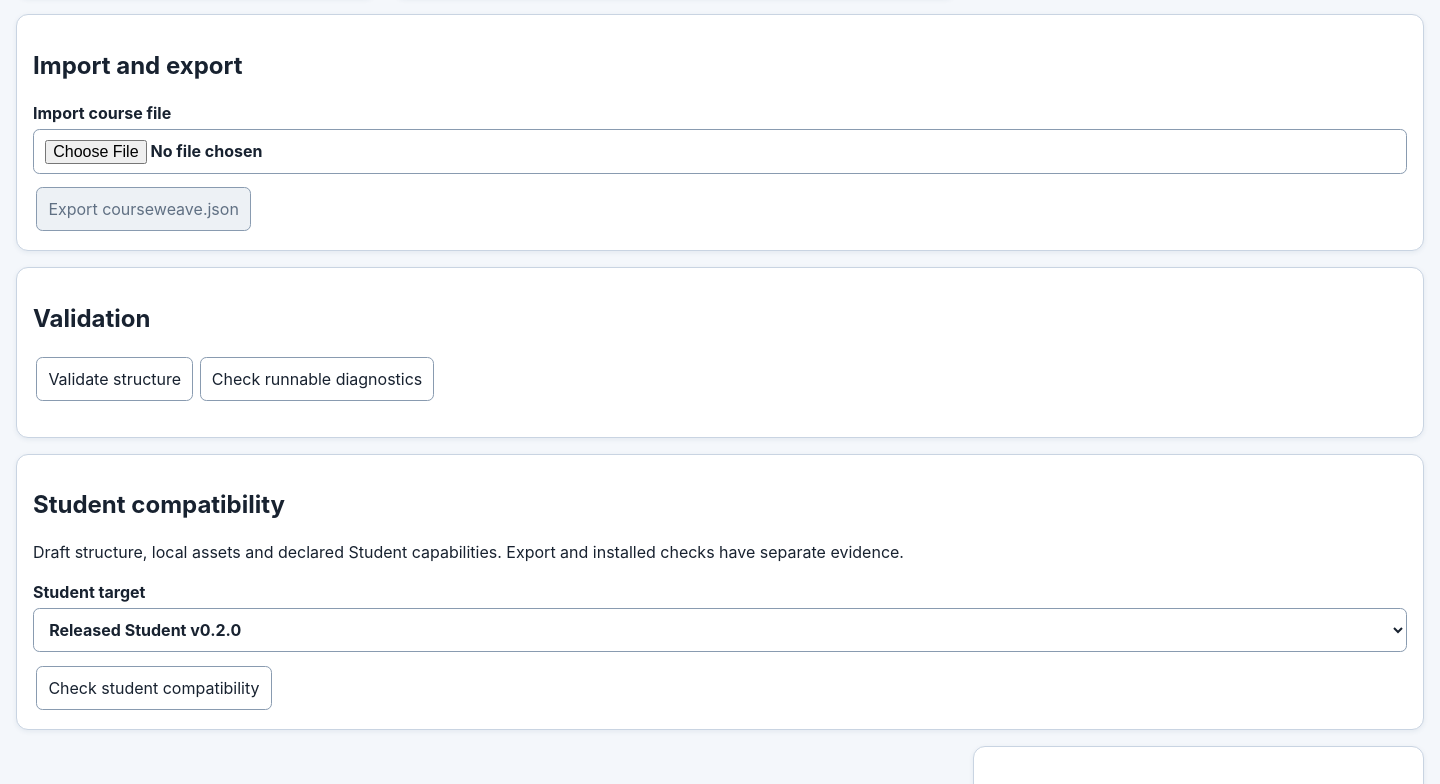
Test case: Author validation presentation › reveals and focuses the actual non-selected second-module Path field with its deterministic pointer association
(page scrolled)
Click the button "Validate structure": (115, 379) top-left (36, 357), bottom-right (193, 401)
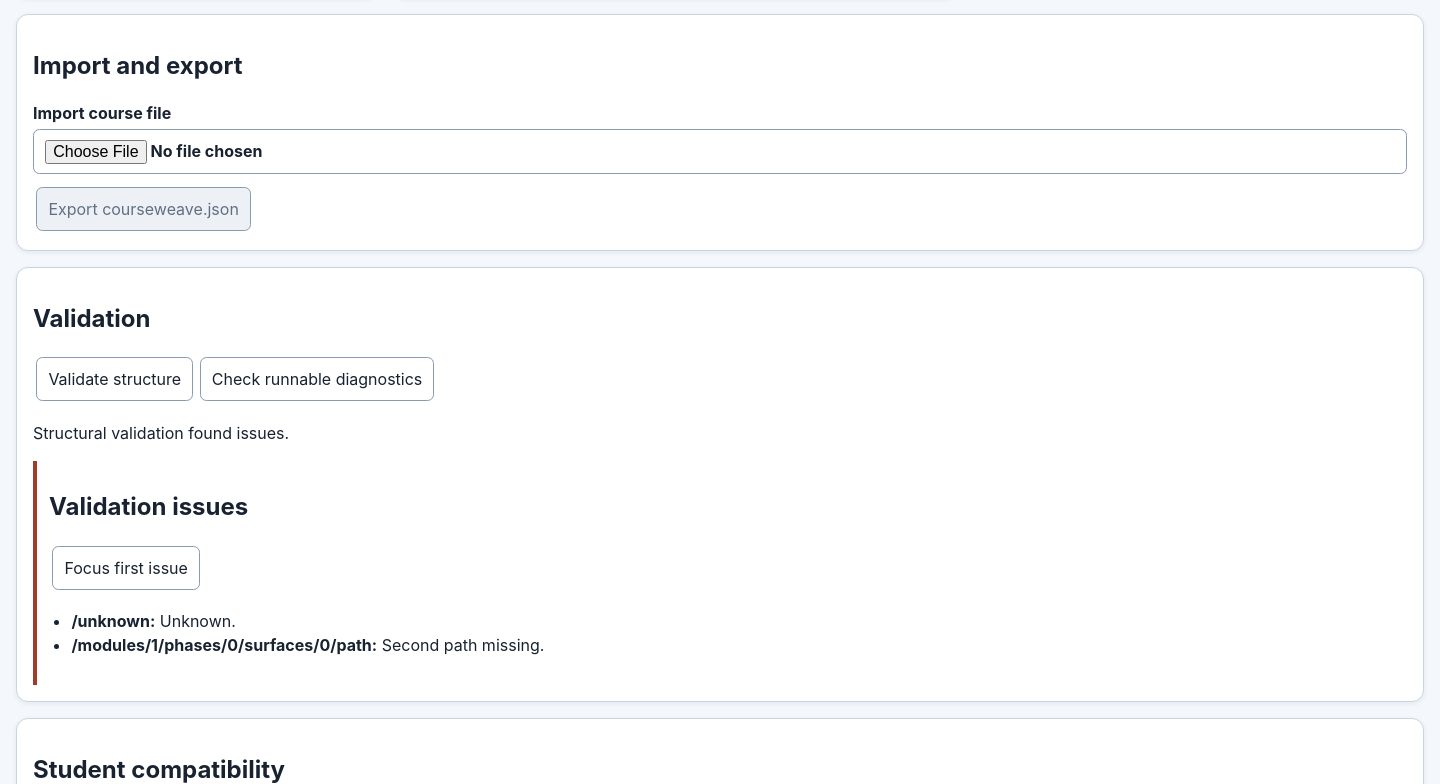
Now the list item "Second path missing." is shown, box top-left (382, 635), bottom-right (544, 655)
Click the button "Focus first issue": (126, 568) top-left (52, 546), bottom-right (200, 590)
(page scrolled)
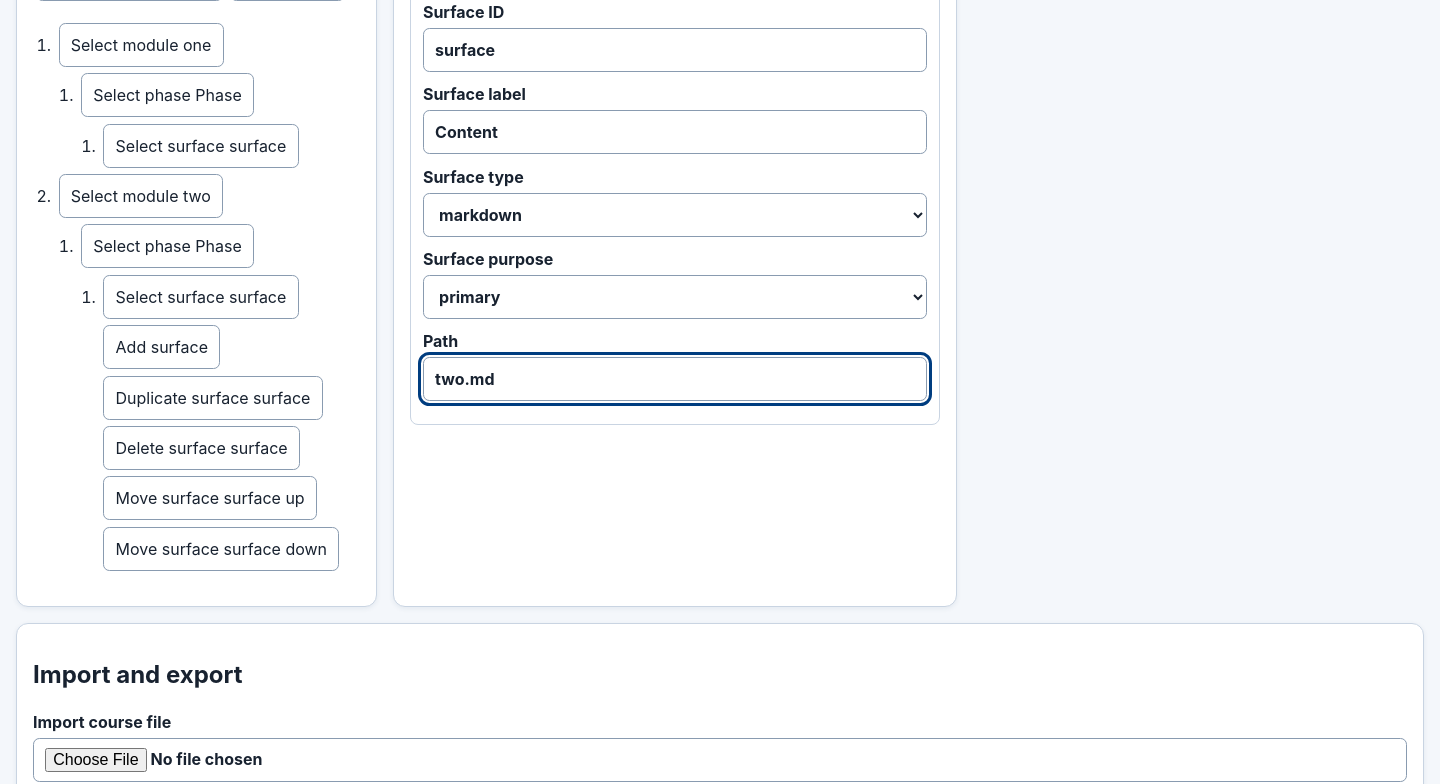
Now the field labelled "Path" holds "two.md", box top-left (423, 357), bottom-right (927, 401)
